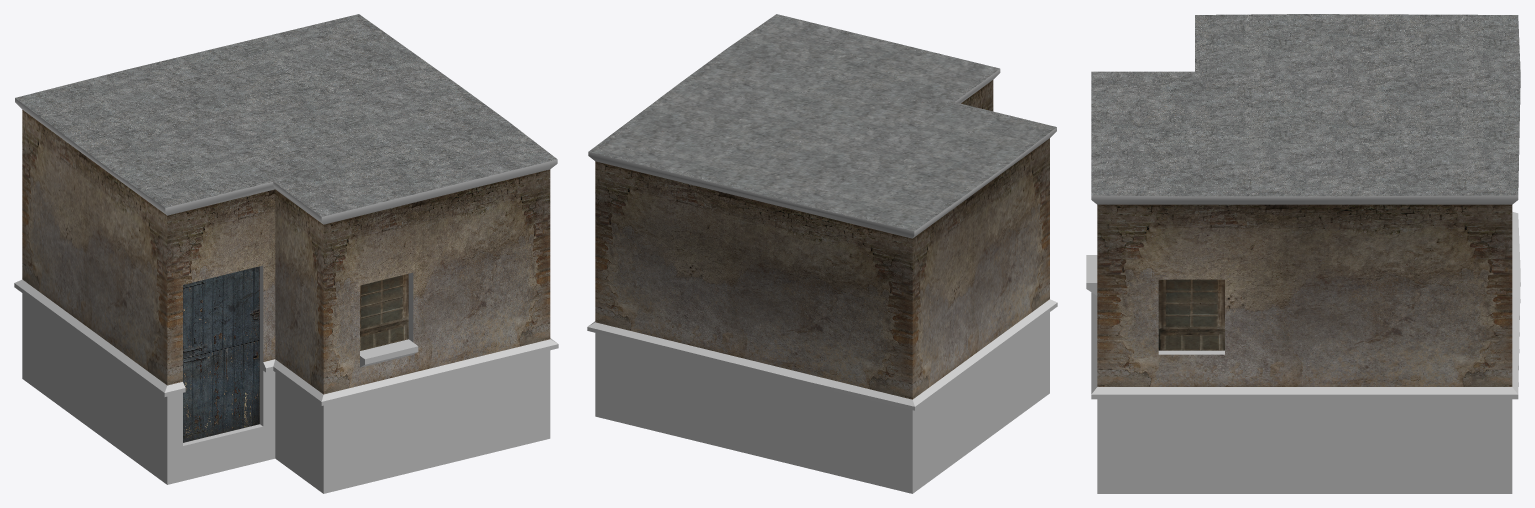
File: Building_Base_02.fbx
The picture shows the model from 3 angles, left to right: view 1: azimuth 30°, elevation 25°; view 2: azimuth 150°, elevation 25°; view 3: azimuth 270°, elevation 25°; orthographic projection. The views are drawn at different scales.
Visible parts, largest first — view 1: Building_Base_02; view 2: Building_Base_02; view 3: Building_Base_02.
Boxes of the visible parts, <box> form: Building_Base_02: <box>14,14,558,493</box>; Building_Base_02: <box>587,14,1057,493</box>; Building_Base_02: <box>1086,14,1520,493</box>.
Size of the model in its own units: 520 by 400 by 523.
